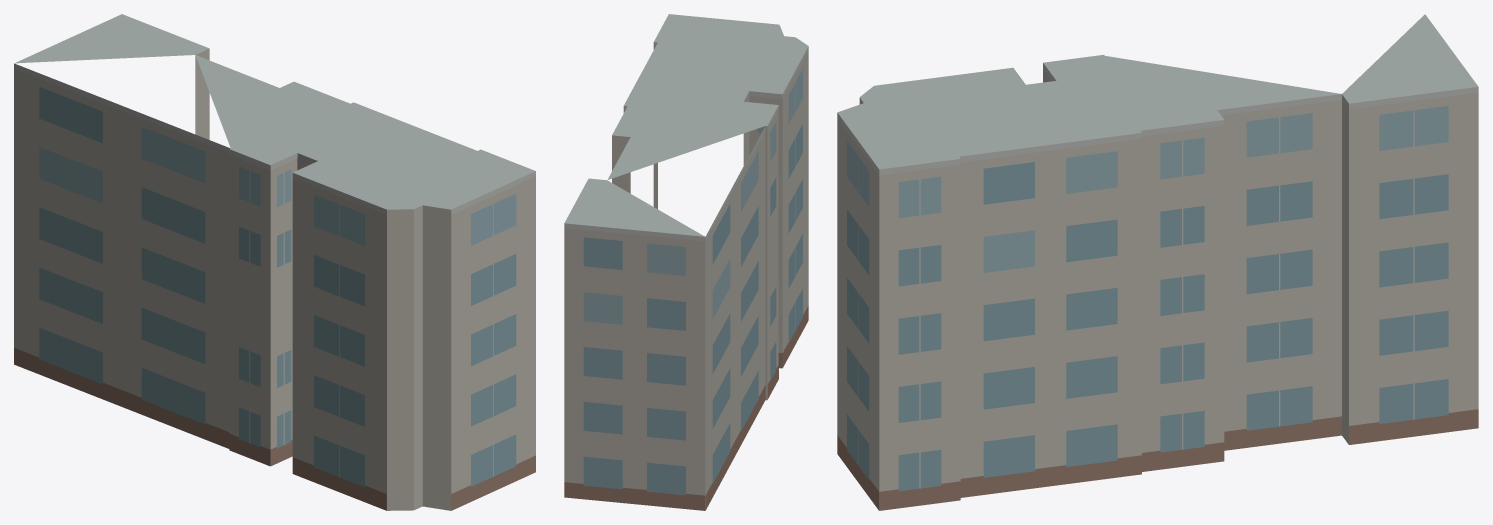
File: survey-upis-32610170.glb
3 views of the same model, side by side, from view 1: azimuth 30°, elevation 25°; view 2: azimuth 150°, elevation 25°; view 3: azimuth 270°, elevation 25° (orthographic). The views are drawn at different scales.
Parts seen in each view (by area): view 1: survey-upis-32610170.tmp; view 2: survey-upis-32610170.tmp; view 3: survey-upis-32610170.tmp.
Boxes of the visible parts, bbox=[...] form: survey-upis-32610170.tmp: bbox=[14, 14, 535, 510]; survey-upis-32610170.tmp: bbox=[564, 14, 808, 510]; survey-upis-32610170.tmp: bbox=[837, 14, 1478, 510].
Size of the model in its own units: 13.87 by 14.2 by 24.18.
